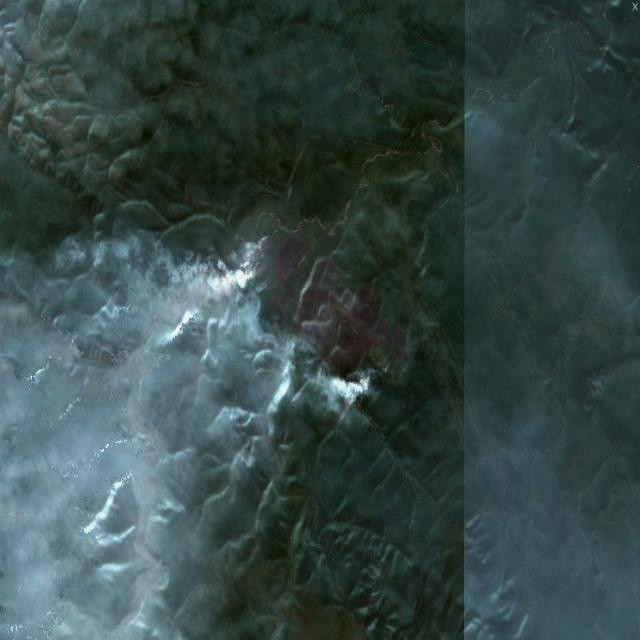fire: (234, 216, 280, 293)
